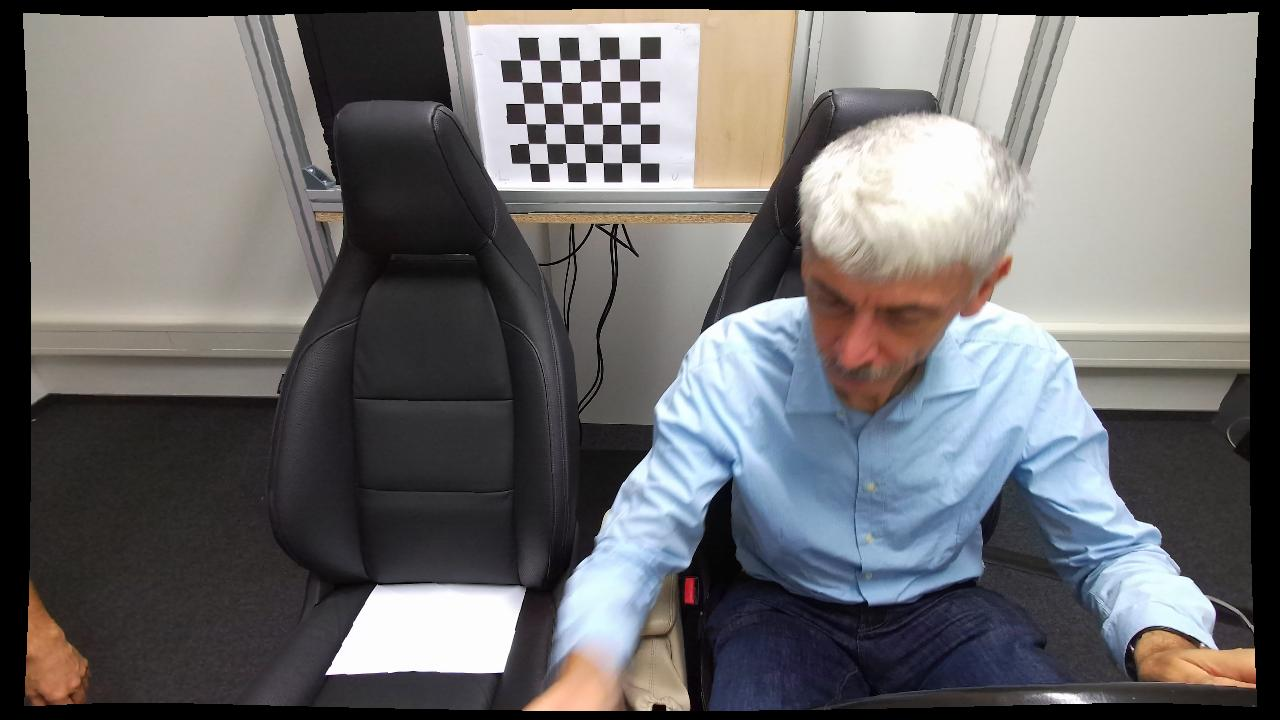Distracted: (516, 105, 1142, 708)
